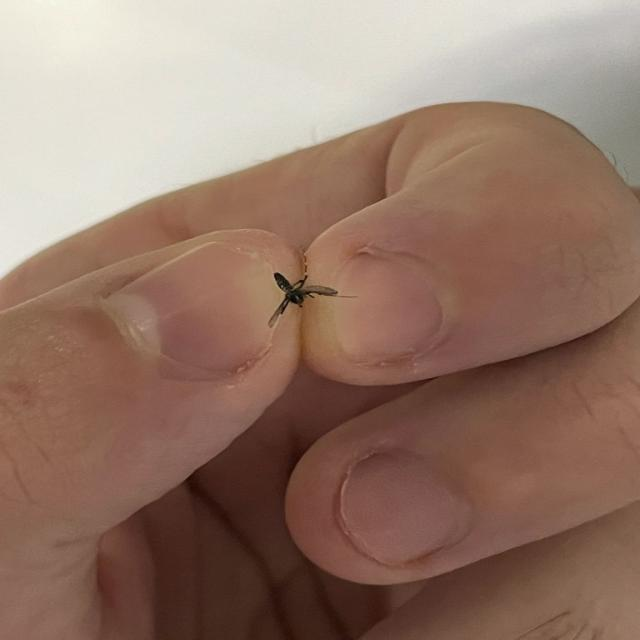albopictus: (256, 244, 360, 326)
